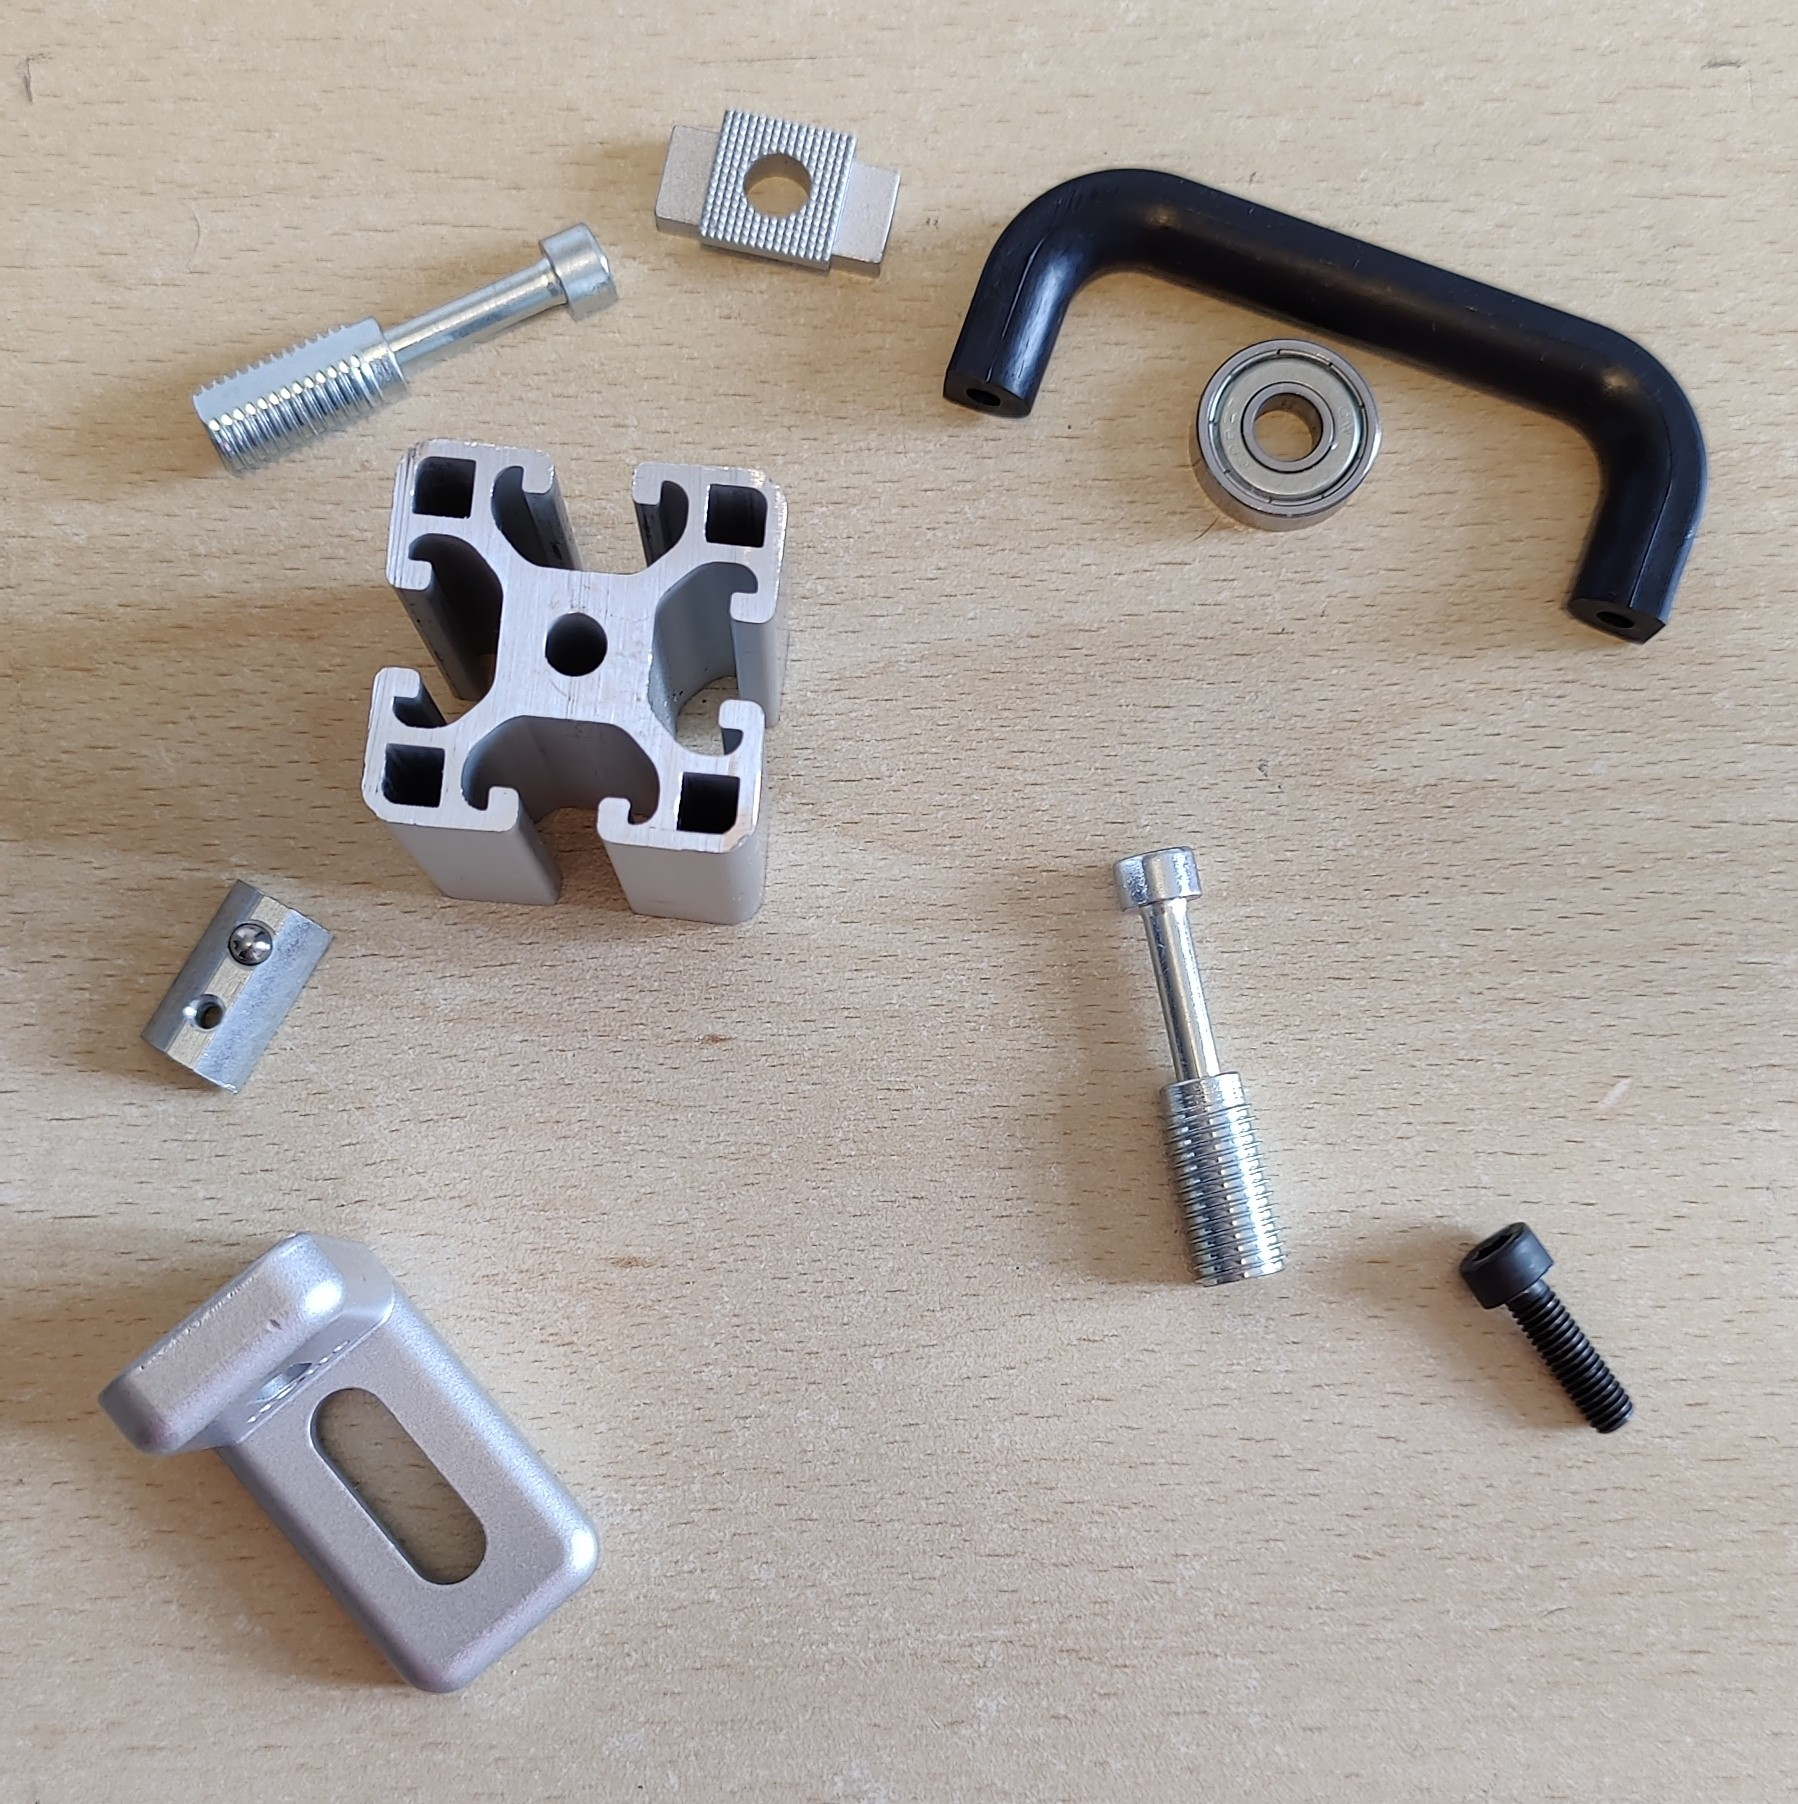Aluminium Extension: (357, 435, 790, 932)
Ball Bearing: (1185, 337, 1386, 535)
Multiwinkel: (92, 1231, 603, 1695)
Pull Handle: (939, 165, 1711, 649)
Shoulder Socket Head Cap Screw: (189, 221, 621, 481), (1111, 843, 1291, 1290)
Socket Head Cap Screw: (1456, 1216, 1638, 1439)
T Nut Square: (650, 104, 906, 278)
T Spring Nut: (135, 877, 338, 1093)
